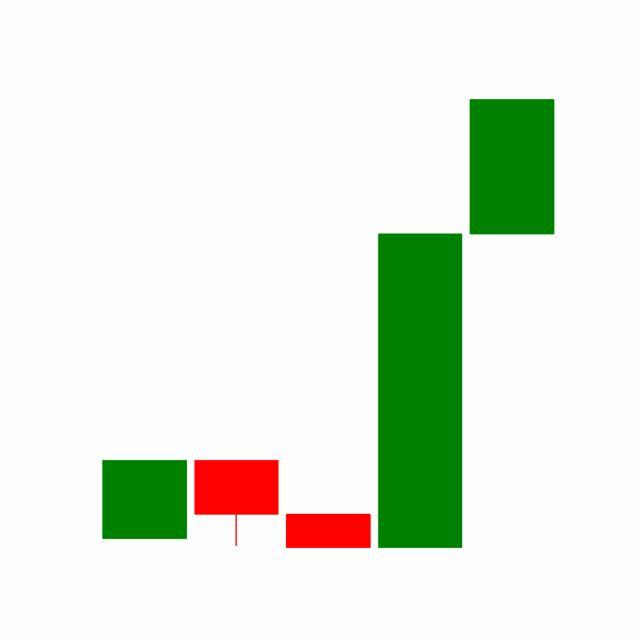Marubozu: (374, 231, 468, 552)
